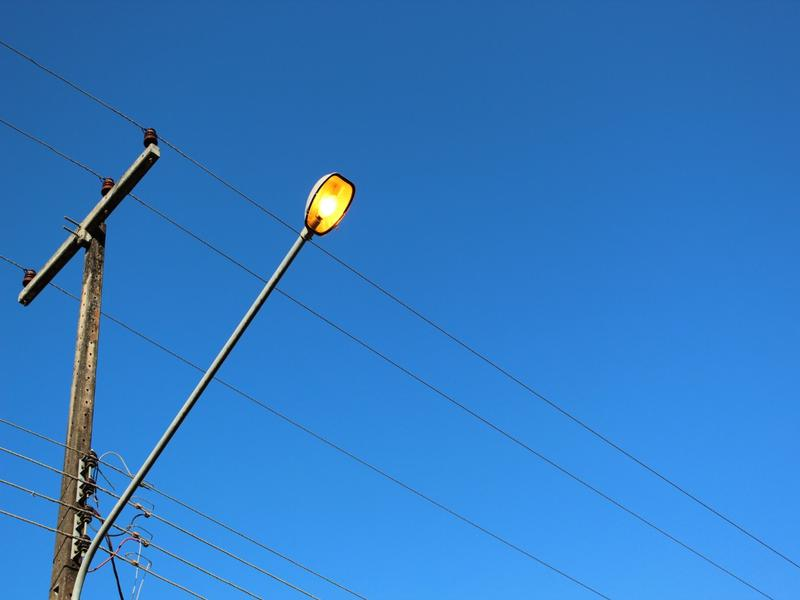IP: (67, 168, 361, 556)
